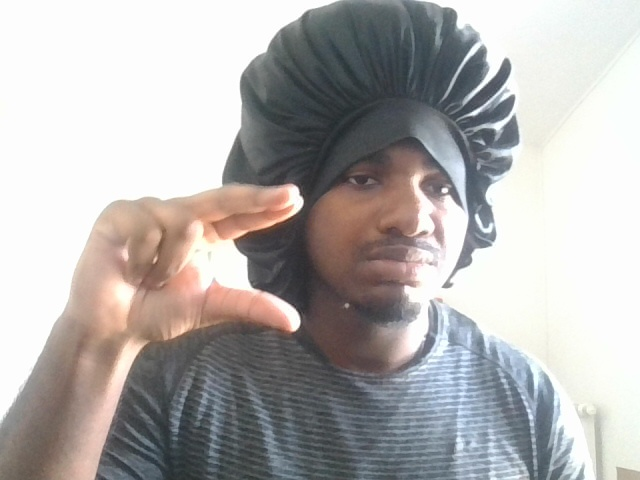No: (47, 154, 309, 347)
